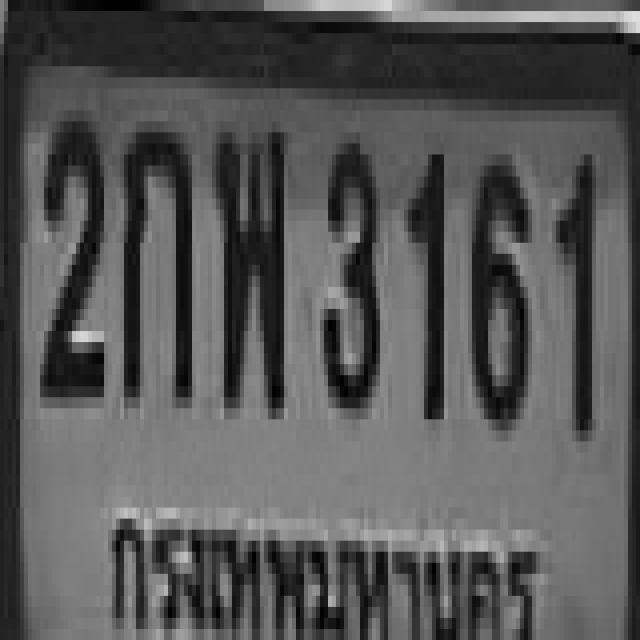1: (552, 144, 592, 430), (404, 138, 440, 414)
10GorGai: (120, 110, 188, 398)
2: (36, 110, 100, 387)
3: (320, 132, 376, 398)
39PhorPan: (212, 116, 280, 403)
6: (468, 143, 524, 420)
Bangkok: (105, 491, 548, 640)
